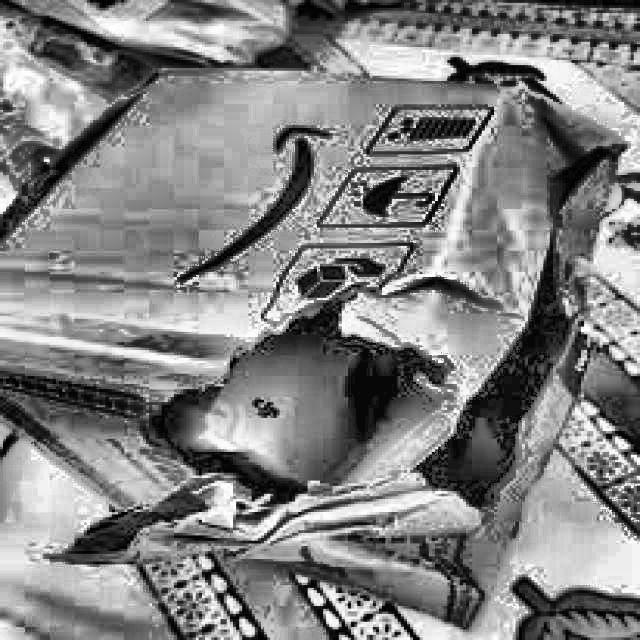box: (0, 61, 628, 639)
hole: (139, 136, 603, 546)
